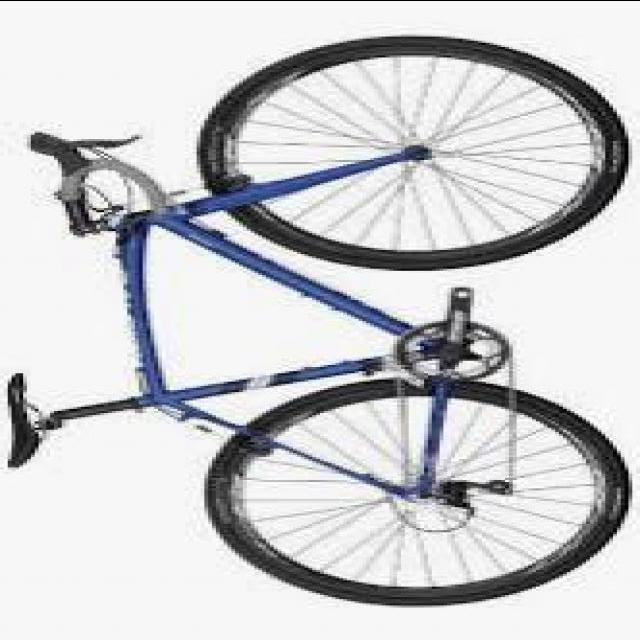bicycle: (5, 41, 625, 593)
